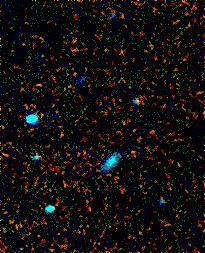star: (99, 0, 129, 29)
